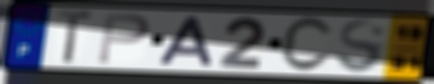2: (217, 15, 269, 71)
A: (156, 15, 216, 68)
C: (278, 16, 336, 74)
P: (96, 12, 152, 66)
S: (334, 18, 389, 75)
T: (52, 9, 97, 66)
